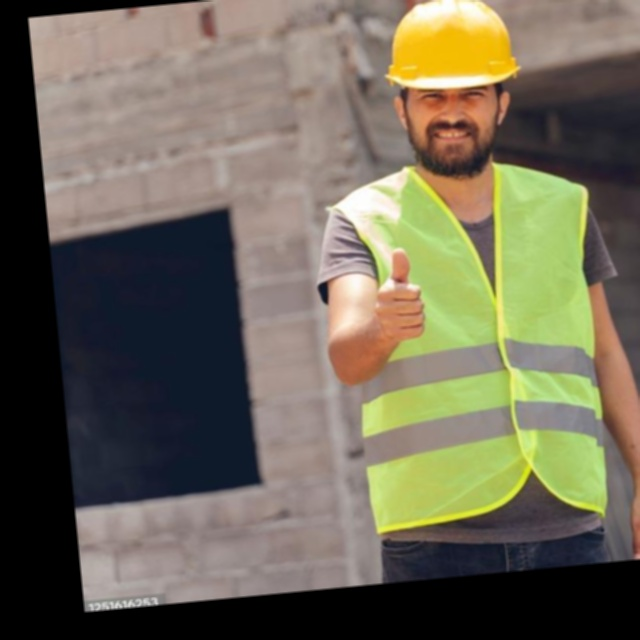Con_Casco: (379, 0, 530, 181)
Con_Chaleco: (331, 154, 619, 535)
